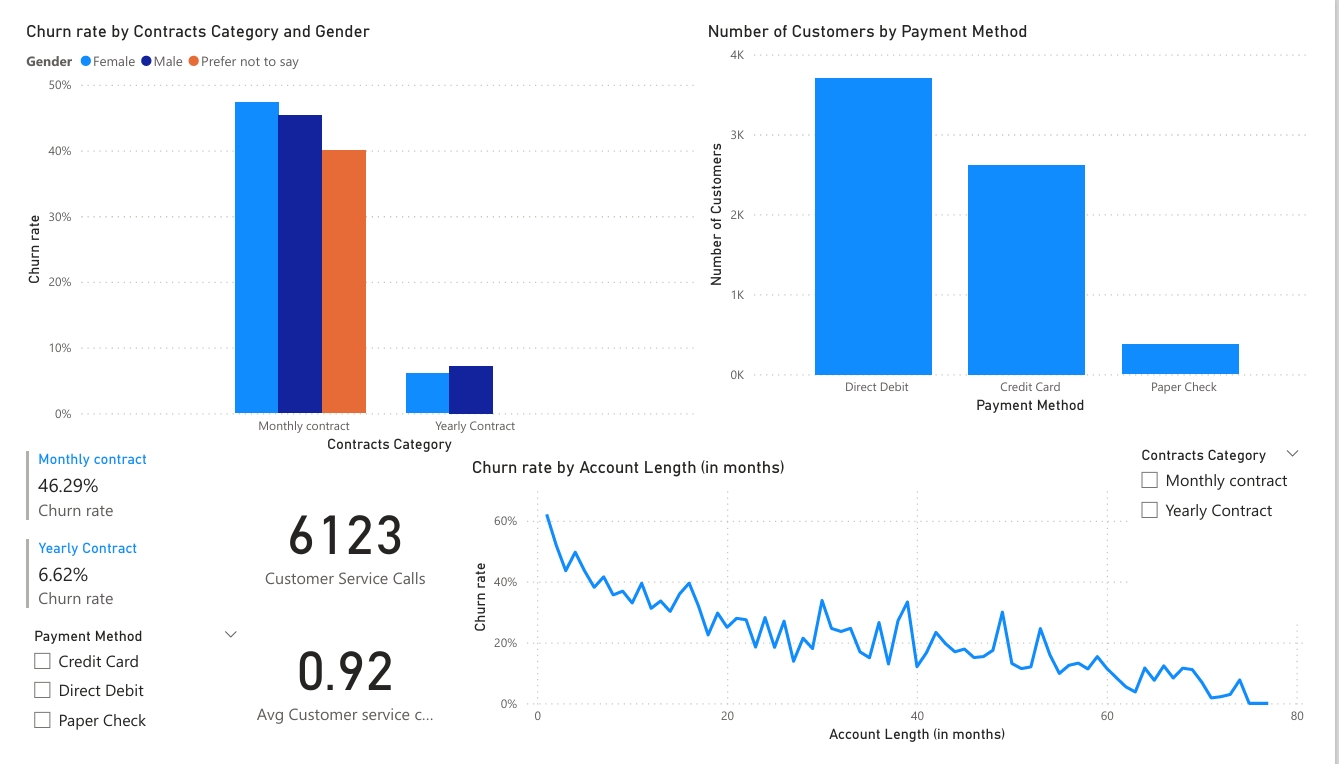

What the dashboard file says about the page in this screenshot:
{"tool":"powerbi","page":{"name":"Contracts","canvas":[1280,720],"ordinal":2},"visuals":[{"type":"clusteredColumnChart","fields":{"Category":["Databel - Data.Contracrts"],"Y":["Databel - Data.Churn rate"],"Series":["Databel - Data.Gender"]},"box":[0,0,675.6,432.2],"z":0},{"type":"multiRowCard","fields":{"Values":["Databel - Data.Contracrts","Databel - Data.Churn rate"]},"box":[0,420.5,227.4,267.7],"z":1000},{"type":"lineChart","fields":{"Y":["Databel - Data.Churn rate"],"Category":["Databel - Data.Account Length (in months)"]},"box":[442.2,432.2,837.8,287.8],"z":2000},{"type":"columnChart","fields":{"Category":["Databel - Data.Payment Method"],"Y":["Databel - Data.Number of Customers"]},"box":[675.6,0,604.4,394.4],"z":3000},{"type":"card","fields":{"Values":["Databel - Data.Avg Customer service calls"]},"box":[227.1,575.7,188.6,144.3],"z":4000},{"type":"card","fields":{"Values":["Sum(Databel - Data.Customer Service Calls)"]},"box":[227.1,450,188.6,125.7],"z":5000},{"type":"slicer","fields":{"Values":["Databel - Data.Contracrts"]},"box":[1097.7,416.8,182.1,178.5],"z":6000},{"type":"slicer","fields":{"Values":["Databel - Data.Payment Method"]},"box":[0,595.7,227.1,124.3],"z":7000}]}

Visuals, with their boxes in screenshot pixels (x1, y1, x2, y2), scaled from the page's 1280x720 canvas onto the 1339x764 screenshot:
clusteredColumnChart - Databel - Data.Contracrts x Databel - Data.Churn rate: {"x1": 0, "y1": 0, "x2": 707, "y2": 459}
multiRowCard - Databel - Data.Contracrts x Databel - Data.Churn rate: {"x1": 0, "y1": 446, "x2": 238, "y2": 730}
lineChart - Databel - Data.Churn rate x Databel - Data.Account Length (in months): {"x1": 463, "y1": 459, "x2": 1338, "y2": 763}
columnChart - Databel - Data.Payment Method x Databel - Data.Number of Customers: {"x1": 707, "y1": 0, "x2": 1338, "y2": 419}
card - Databel - Data.Avg Customer service calls: {"x1": 238, "y1": 611, "x2": 435, "y2": 763}
card - Sum(Databel - Data.Customer Service Calls): {"x1": 238, "y1": 478, "x2": 435, "y2": 611}
slicer - Databel - Data.Contracrts: {"x1": 1148, "y1": 442, "x2": 1338, "y2": 632}
slicer - Databel - Data.Payment Method: {"x1": 0, "y1": 632, "x2": 238, "y2": 763}
